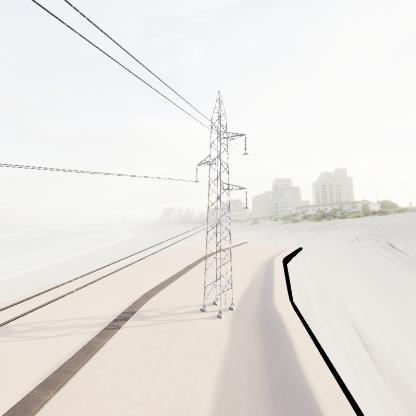tower: (192, 86, 253, 321)
